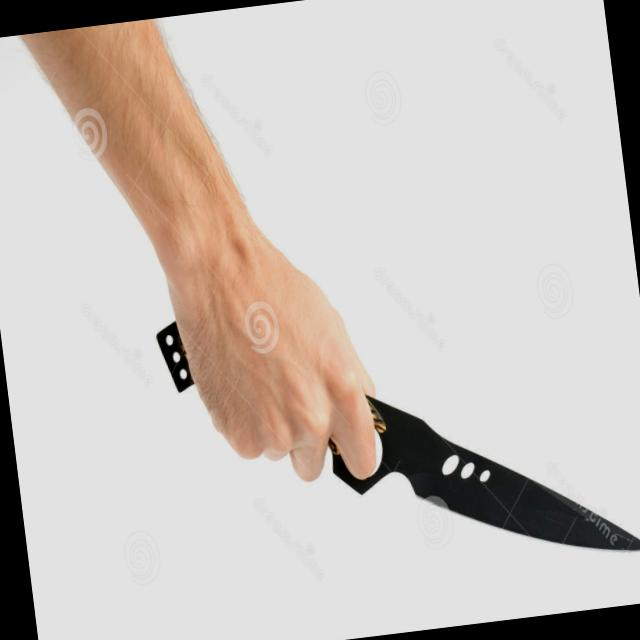knife: (236, 325, 639, 612)
